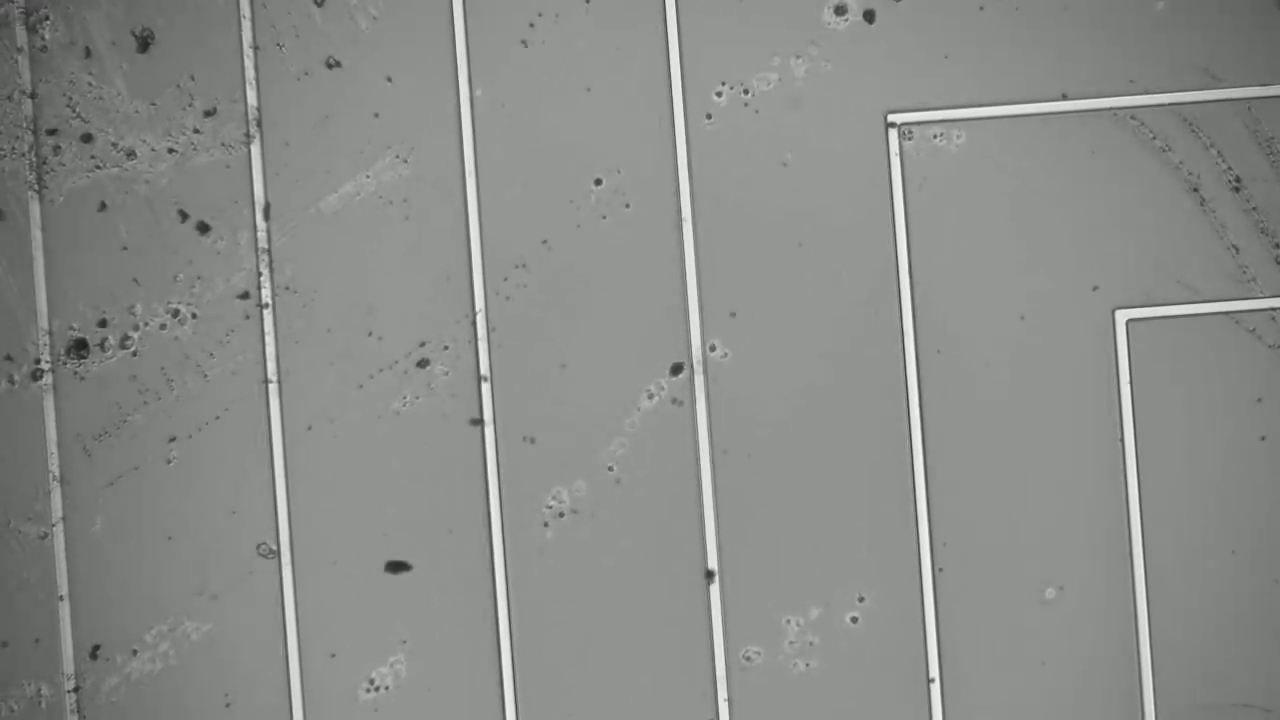scratch: (1134, 81, 1280, 373)
stains_enbedded: (697, 562, 729, 588), (25, 362, 58, 383)
